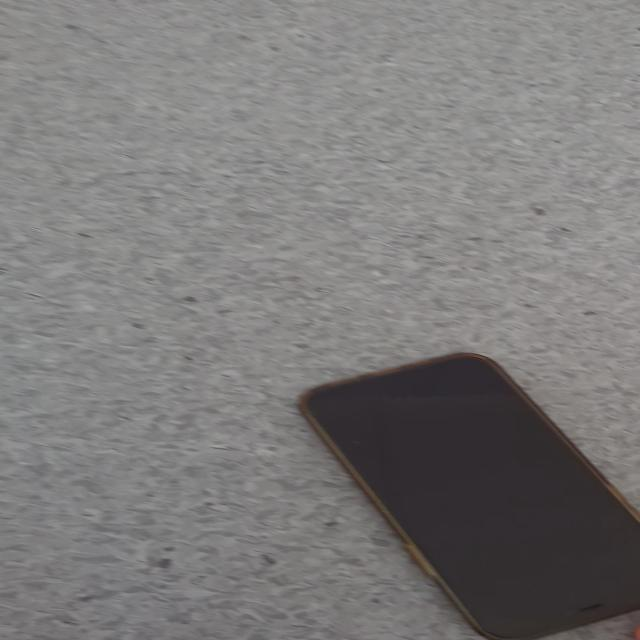phone: (296, 351, 639, 639)
